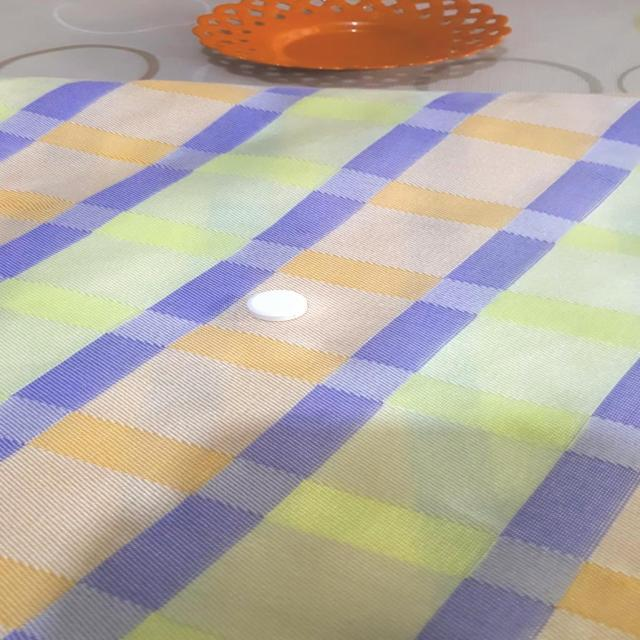pill: (242, 284, 318, 324)
